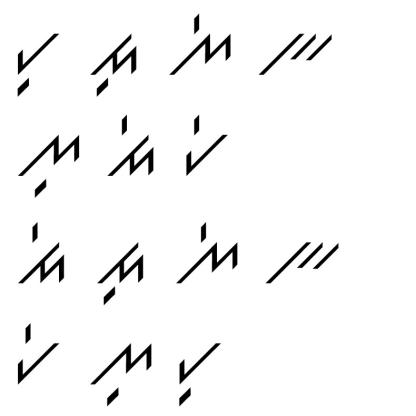de: (106, 111, 163, 183), (11, 221, 73, 286)
du: (85, 28, 143, 106), (95, 237, 148, 309)
ne: (170, 214, 245, 286), (168, 9, 237, 85)
nu: (14, 121, 93, 198), (88, 328, 156, 412)
pe: (11, 314, 65, 389), (180, 110, 230, 178)
pu: (173, 330, 231, 410), (10, 22, 63, 99)
